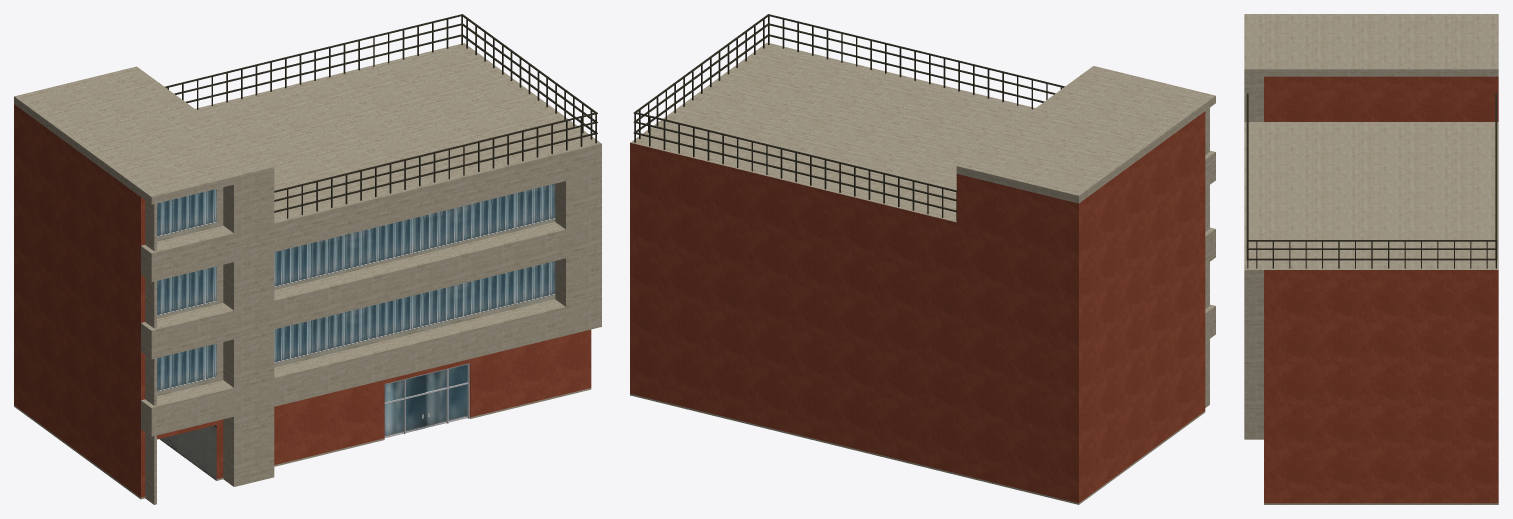
The model's file is firedept.FBX.
The picture shows the model from 3 angles, left to right: view 1: azimuth 30°, elevation 25°; view 2: azimuth 150°, elevation 25°; view 3: azimuth 270°, elevation 25°; orthographic projection. The views are drawn at different scales.
Parts seen in each view (by area): view 1: Box012; view 2: Box012; view 3: Box012.
Part boxes in pixels (x1,y1,x2,y2): Box012: (14, 14, 601, 504); Box012: (630, 14, 1215, 504); Box012: (1244, 14, 1498, 504).
Size of the model in its own units: 589 by 388 by 311.
